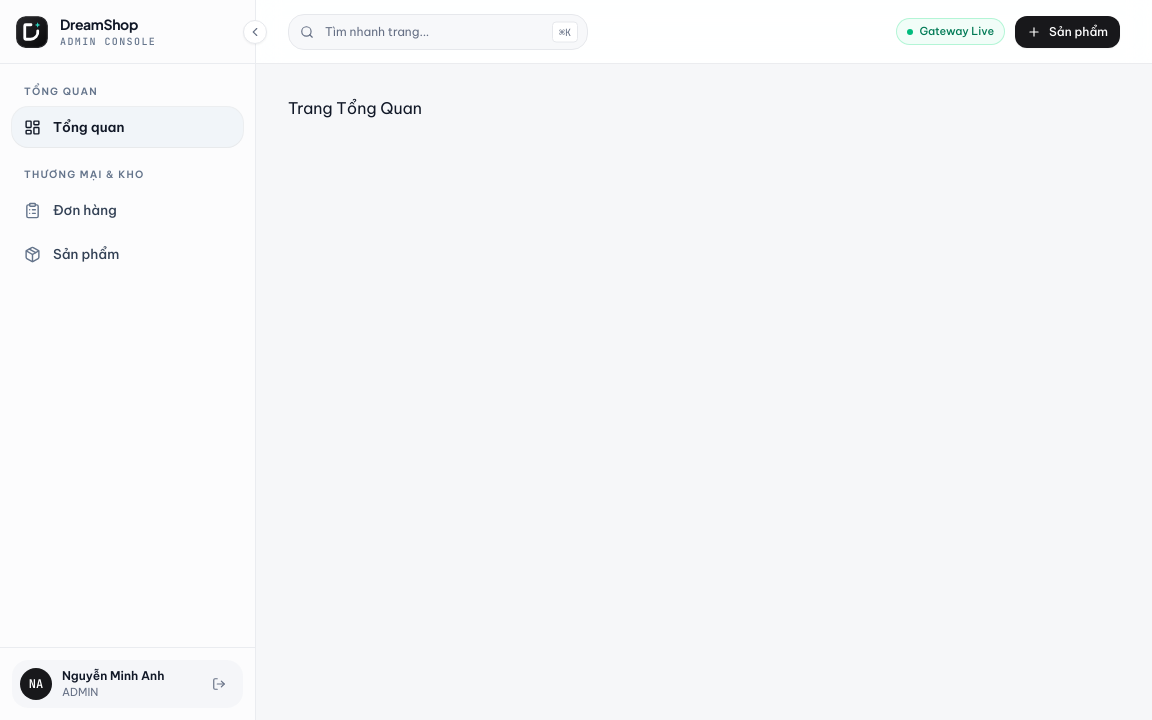
Test case: AdminShell › toggles desktop sidebar collapse state
The image size is (1152, 720).
Click the button named "Thu gọn menu": x=255, y=32 top-left (243, 20), bottom-right (267, 44)
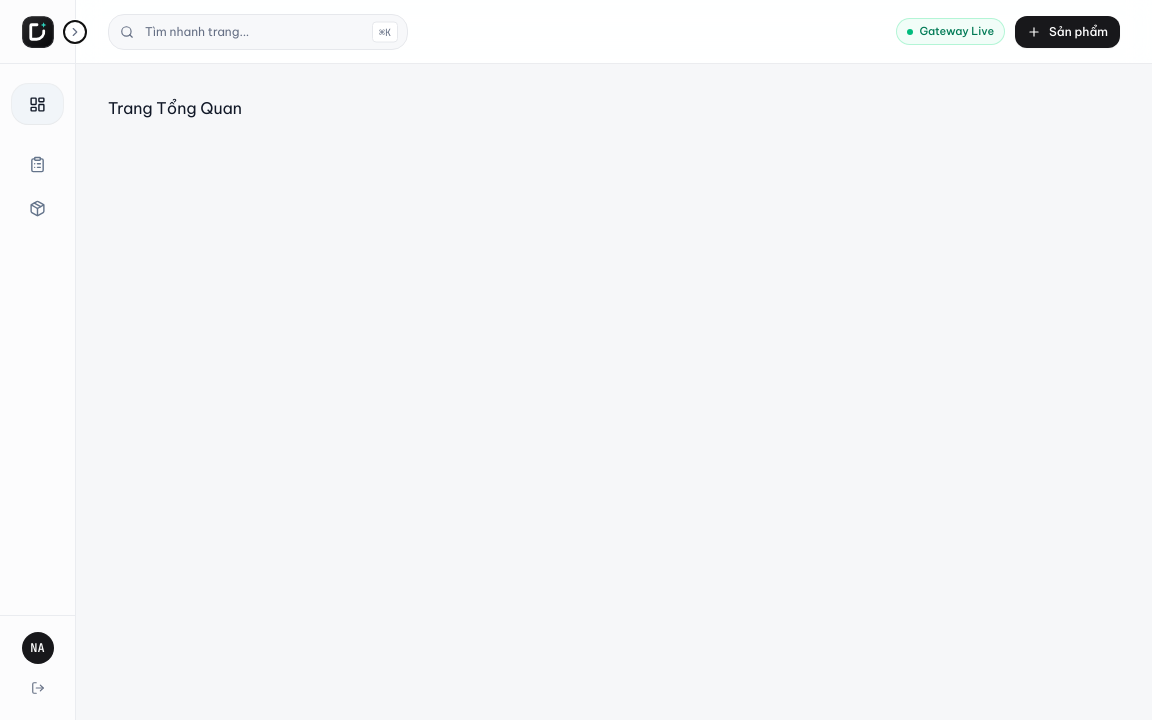
Check: the element named "Điều hướng quản trị" has attribute data-collapsed="true", box top-left (0, 0), bottom-right (76, 719)
Click the button named "Mở rộng menu": x=75, y=32 top-left (63, 20), bottom-right (87, 44)
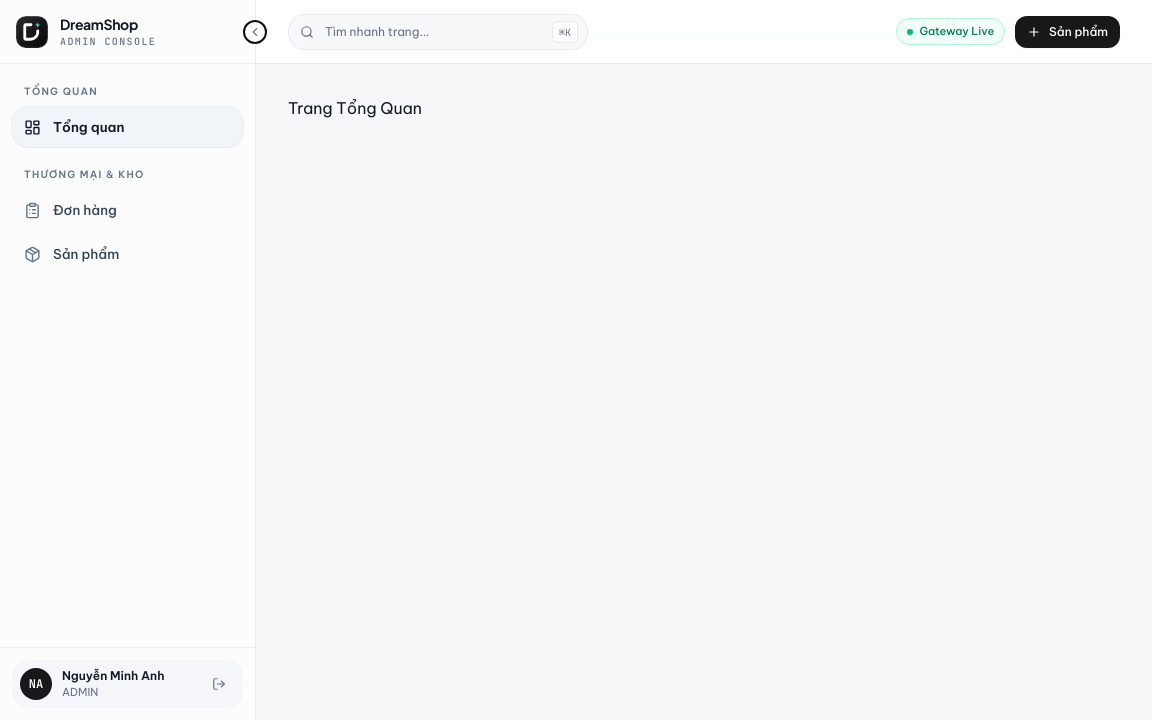
Check: the element named "Điều hướng quản trị" has attribute data-collapsed="false", box top-left (0, 0), bottom-right (256, 719)
